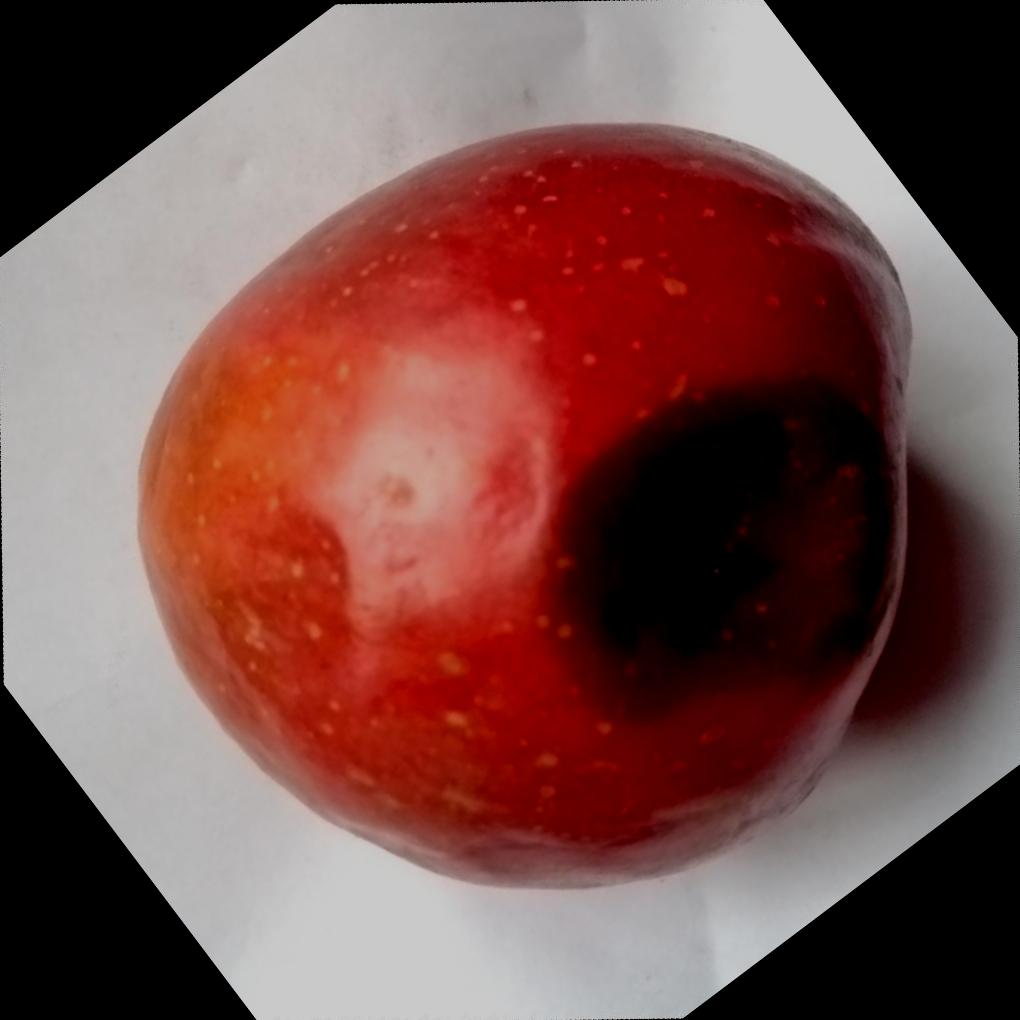FreshOrange: (129, 118, 913, 890)
